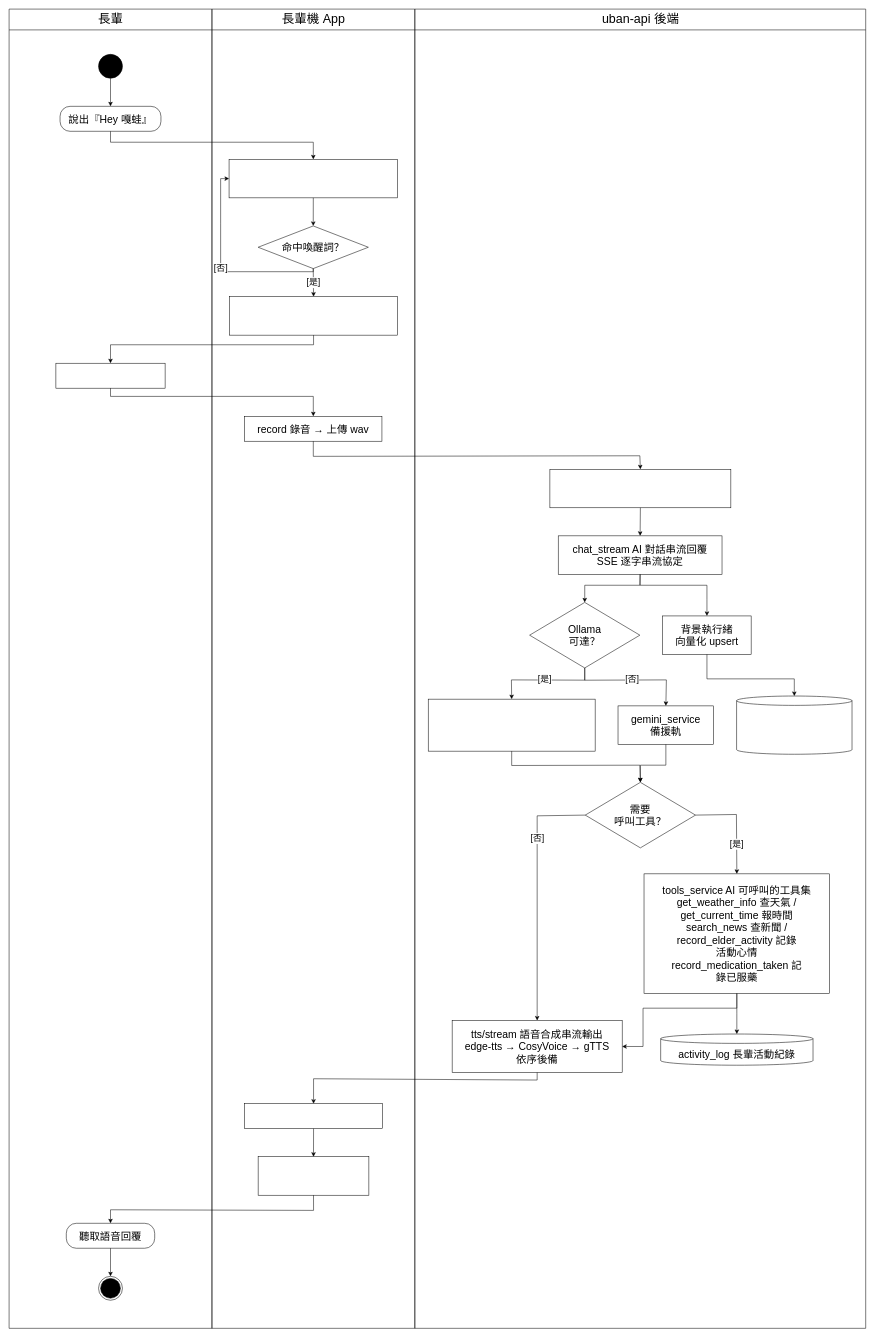
This 875x1337 diagram has some shape labels left out. Each missing label, with the centre of its shape:
"audioplayers 播放 並快取音檔供重播" belongs at pixel 313 1175.
"ollama_service 主要 AI 引擎 gemma4:e4b-it-q4_K_M (目前使 用模型)" belongs at pixel 511 725.
"Pinecone 長期記憶（雲端向量資料庫）" belongs at pixel 794 725.
"transcribe 上傳音檔轉文字 ASR 語音辨識（Faster-Whisper）" belongs at pixel 640 488.
"常駐 SpeechToText 監聽喚醒詞 elder_home_screen.dart" belongs at pixel 313 178.
"接收 SSE 串流並逐字顯示" belongs at pixel 313 1116.
"說出問題或閒聊內容" belongs at pixel 110 375.
"開啟 GoogleAssistantOverlay ／ElderChatScreen" belongs at pixel 313 315.
